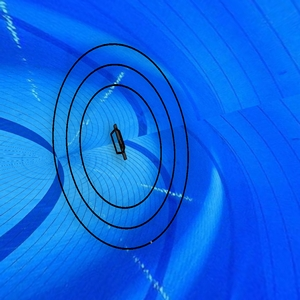circle: (47, 39, 201, 252)
submarine: (103, 121, 135, 167)
